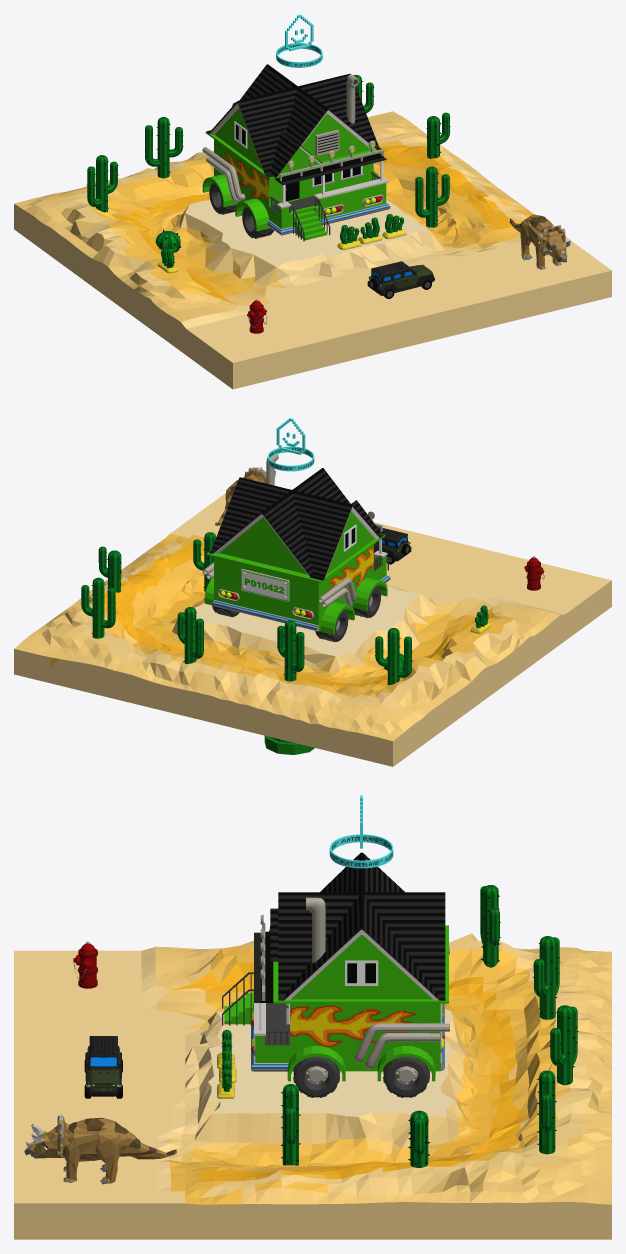
3 views of the same model, one above another, from view 1: azimuth 30°, elevation 25°; view 2: azimuth 150°, elevation 25°; view 3: azimuth 270°, elevation 25° (orthographic). The views are drawn at different scales.
Visible parts, largest first — view 1: Cube.001, Cube.1474, ANIMAL_Triceratops, VEHICLES_JEEP, Cylinder.044, Cylinder.037, Cylinder.045, TYPE_PREMIUM, Cylinder.038; view 2: Cube.001, Cube.1474, Cylinder.042, Cylinder.045, Cylinder.044, Cylinder.043, TYPE_PREMIUM, VEHICLES_JEEP, Cylinder.038, Cylinder.037, UNDERGROUND_PIPES, ANIMAL_Triceratops (+1 smaller); view 3: Cube.001, Cube.1474, ANIMAL_Triceratops, VEHICLES_JEEP, Cylinder.044, Cylinder.043, Cylinder.045, Cylinder.042, Cylinder.037, TYPE_PREMIUM, Cylinder.038, OBJRANDOM_FIRE_HYDRANT.
Boxes of the visible parts, x1=… form: Cube.001: x1=14, y1=111, x2=611, y2=389; Cube.1474: x1=202, y1=64, x2=390, y2=241; ANIMAL_Triceratops: x1=509, y1=214, x2=570, y2=269; VEHICLES_JEEP: x1=367, y1=261, x2=434, y2=298; Cylinder.044: x1=145, y1=117, x2=183, y2=178; Cylinder.037: x1=415, y1=166, x2=449, y2=227; Cylinder.045: x1=87, y1=155, x2=118, y2=212; TYPE_PREMIUM: x1=276, y1=14, x2=322, y2=67; Cylinder.038: x1=426, y1=112, x2=450, y2=158; Cube.001: x1=14, y1=493, x2=611, y2=766; Cube.1474: x1=202, y1=454, x2=390, y2=642; Cylinder.042: x1=81, y1=577, x2=116, y2=638; Cylinder.045: x1=374, y1=628, x2=412, y2=684; Cylinder.044: x1=277, y1=620, x2=304, y2=681; Cylinder.043: x1=177, y1=607, x2=203, y2=663; TYPE_PREMIUM: x1=267, y1=418, x2=314, y2=471; VEHICLES_JEEP: x1=374, y1=527, x2=411, y2=564; Cylinder.038: x1=98, y1=546, x2=121, y2=592; Cylinder.037: x1=193, y1=532, x2=215, y2=591; UNDERGROUND_PIPES: x1=264, y1=736, x2=314, y2=754; ANIMAL_Triceratops: x1=215, y1=467, x2=275, y2=525; Cube.001: x1=14, y1=933, x2=611, y2=1239; Cube.1474: x1=222, y1=852, x2=449, y2=1097; ANIMAL_Triceratops: x1=24, y1=1113, x2=176, y2=1184; VEHICLES_JEEP: x1=84, y1=1036, x2=122, y2=1098; Cylinder.044: x1=533, y1=936, x2=560, y2=1019; Cylinder.043: x1=549, y1=1005, x2=578, y2=1085; Cylinder.045: x1=480, y1=885, x2=500, y2=967; Cylinder.042: x1=537, y1=1070, x2=556, y2=1154; Cylinder.037: x1=281, y1=1084, x2=300, y2=1165; TYPE_PREMIUM: x1=329, y1=795, x2=393, y2=868; Cylinder.038: x1=408, y1=1110, x2=429, y2=1167; OBJRANDOM_FIRE_HYDRANT: x1=73, y1=941, x2=97, y2=988.
Bounding box in the file's own units: 4002 × 3021 × 4001.
37 materials, 4 textured.
